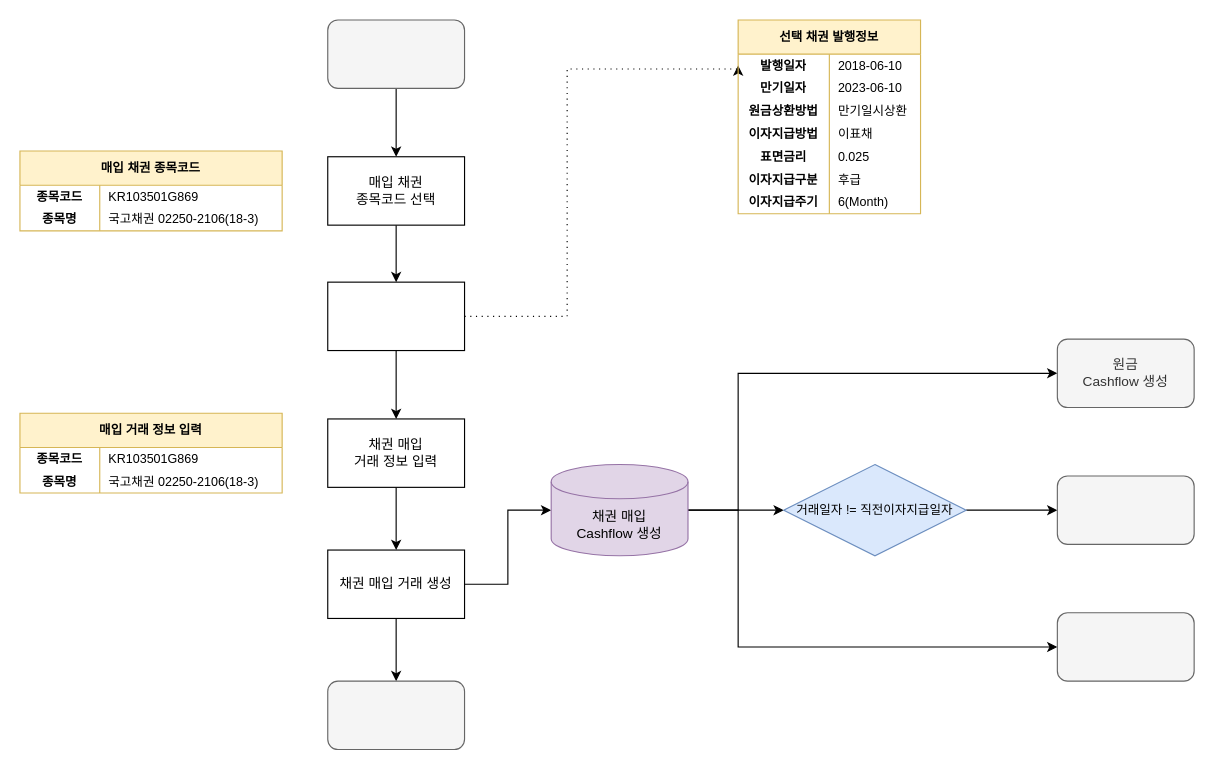
The diagram is 1214 pixels wide and 770 high, and some of its shapes have lost their labels. Here are the shapes that lost their labels. From the top down, the centre of each, then its label:
At (x=396, y=53): "채권 매입".
At (x=396, y=316): "선택 종목 발행정보 조회".
At (x=1125, y=509): "경과 이자 Cashflow 생성".
At (x=1125, y=646): "이자 Cashflow 생성".
At (x=396, y=715): "채권 매입 잔고 생성".
